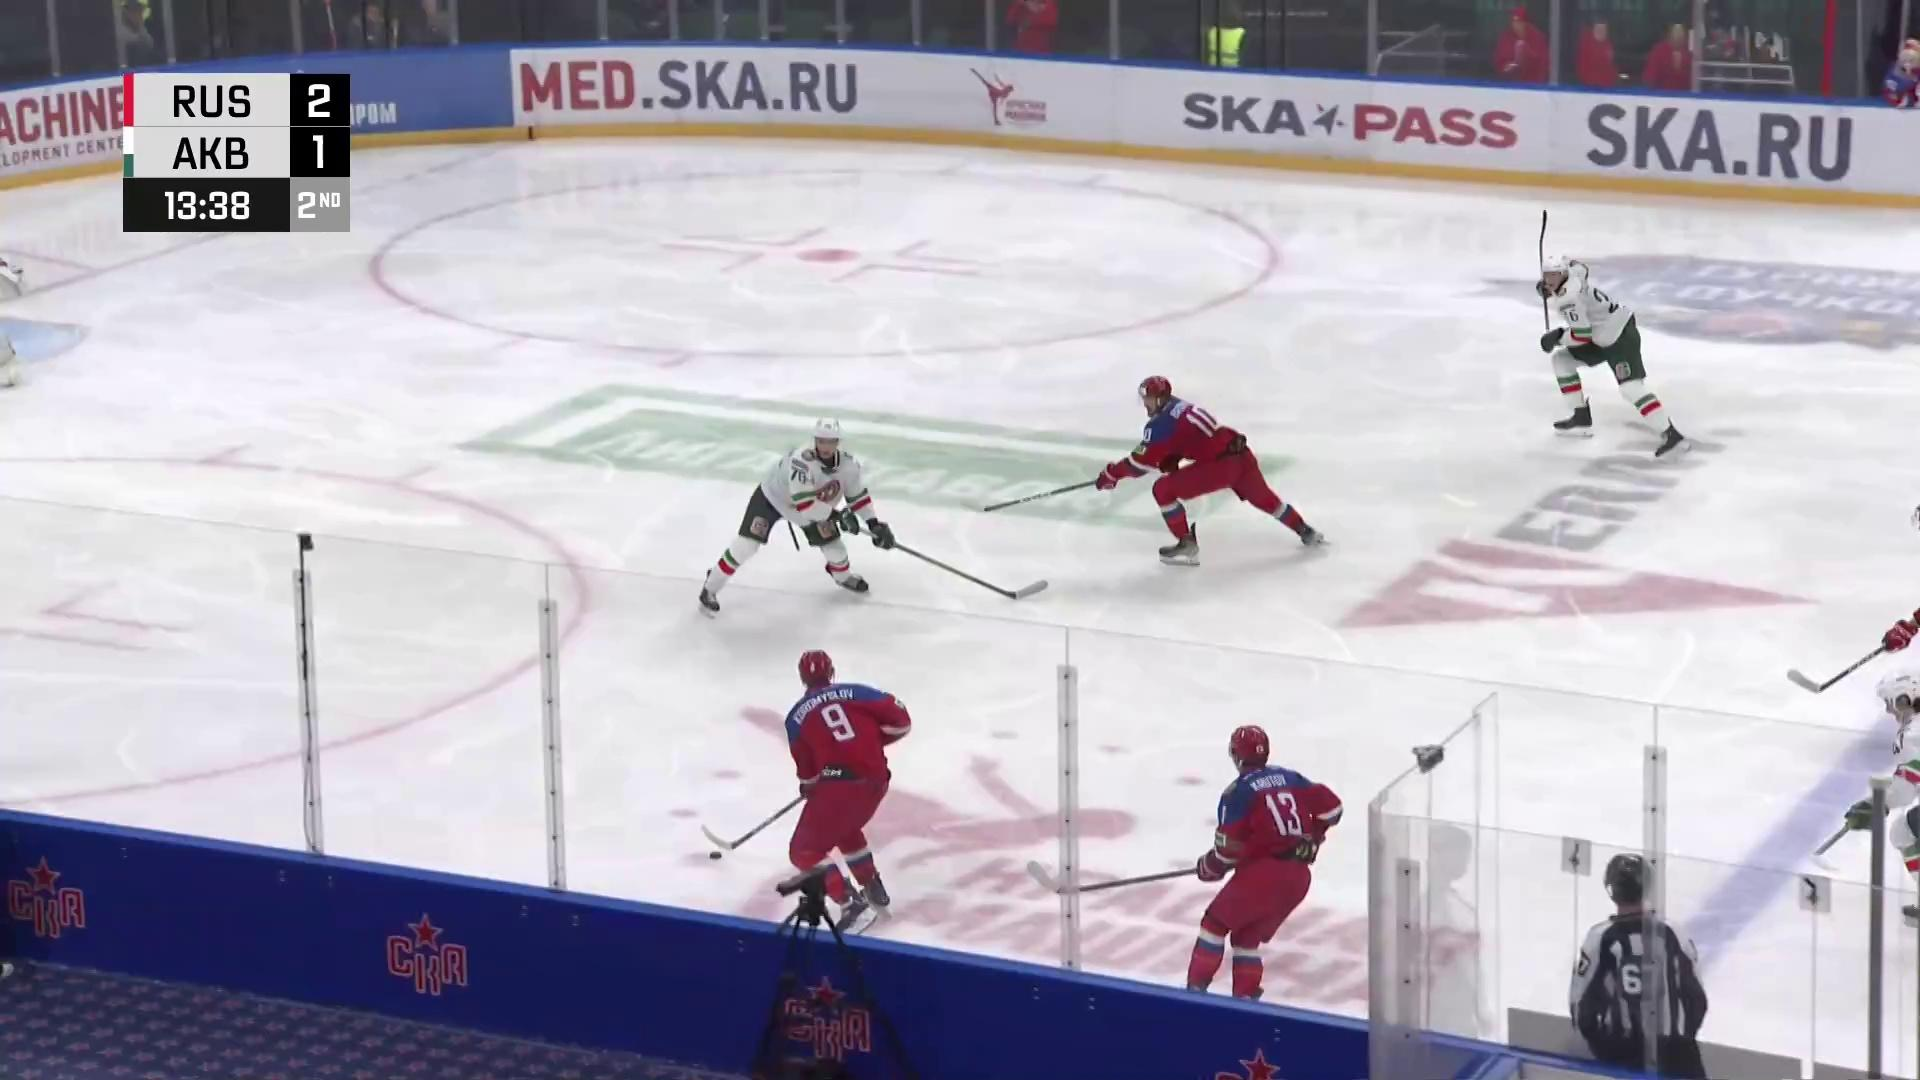ball: (709, 853, 721, 858)
